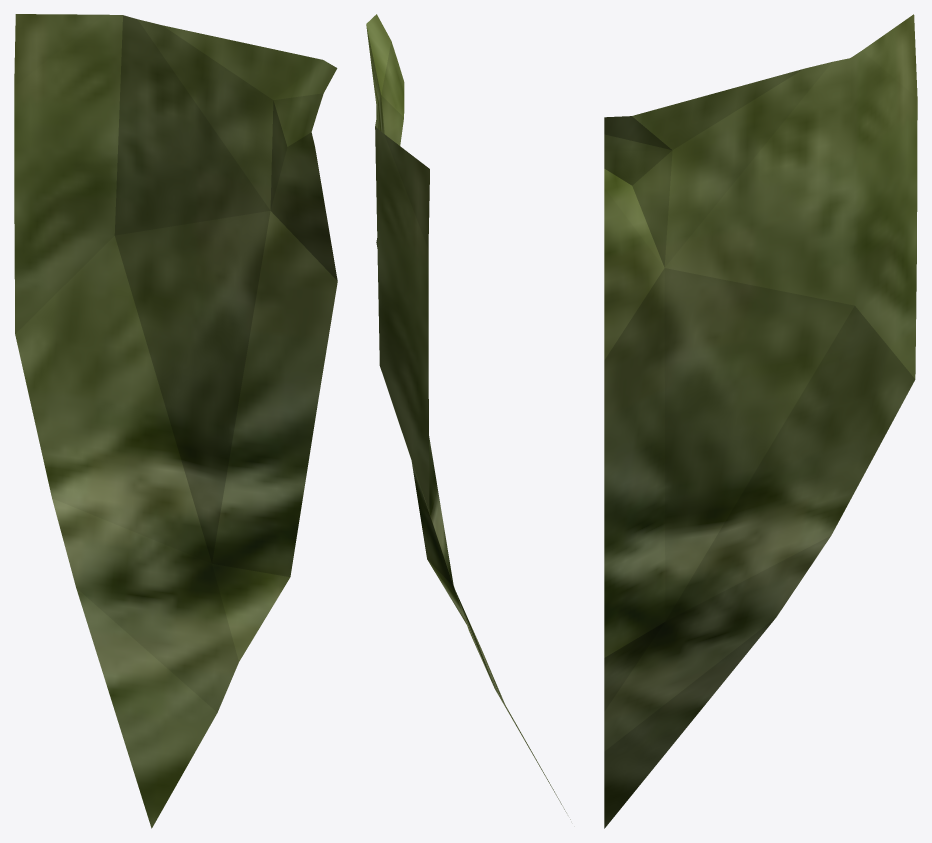
3 renders of one model, left to right at view 1: azimuth 30°, elevation 25°; view 2: azimuth 150°, elevation 25°; view 3: azimuth 270°, elevation 25°, orthographic. The views are drawn at different scales.
Bounding box in the file's own units: 0.3756 × 1.38 × 0.4806.
Materials: 1 (1 with a texture image).
